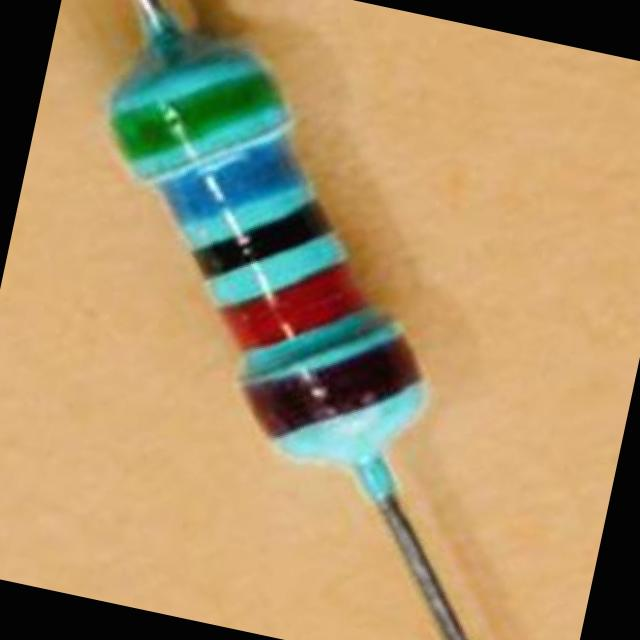Resistor: (109, 21, 423, 499)
black: (190, 199, 335, 278)
blue: (161, 139, 305, 224)
brown: (242, 329, 425, 441)
green: (109, 65, 291, 163)
red: (220, 260, 380, 351)
